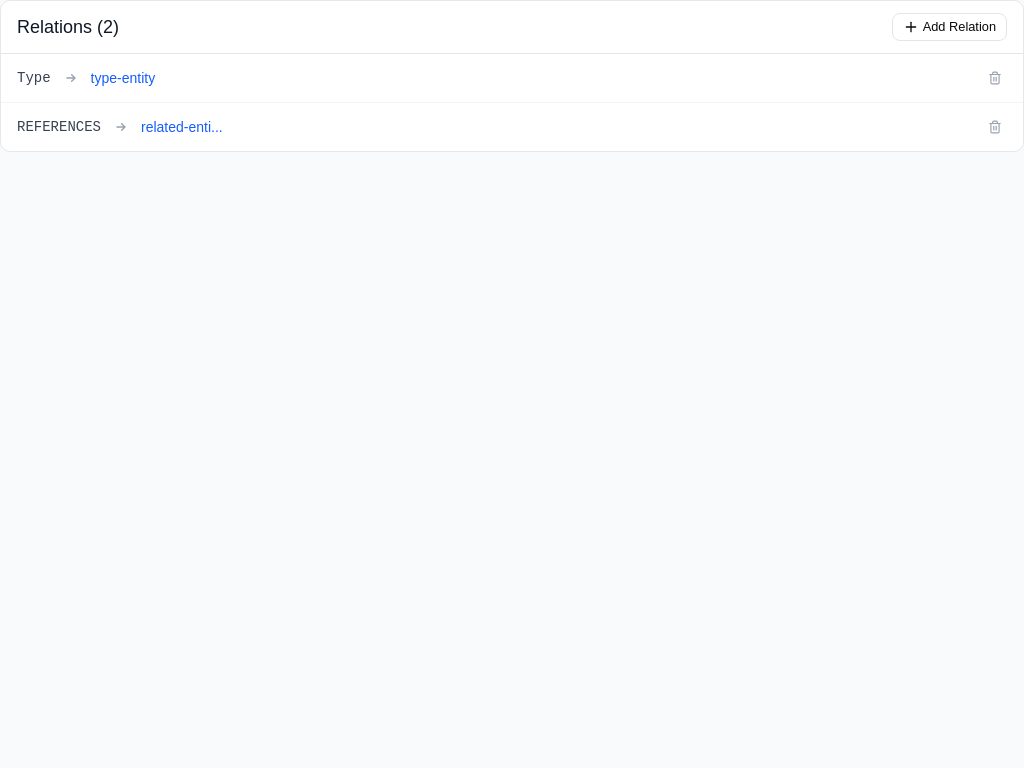
RelationsPanel › Remove Relation › opens confirmation dialog when remove button is clicked
Click the button with test id "remove-relation-button-0".
click(995, 78)  # box [983,66,1007,90]
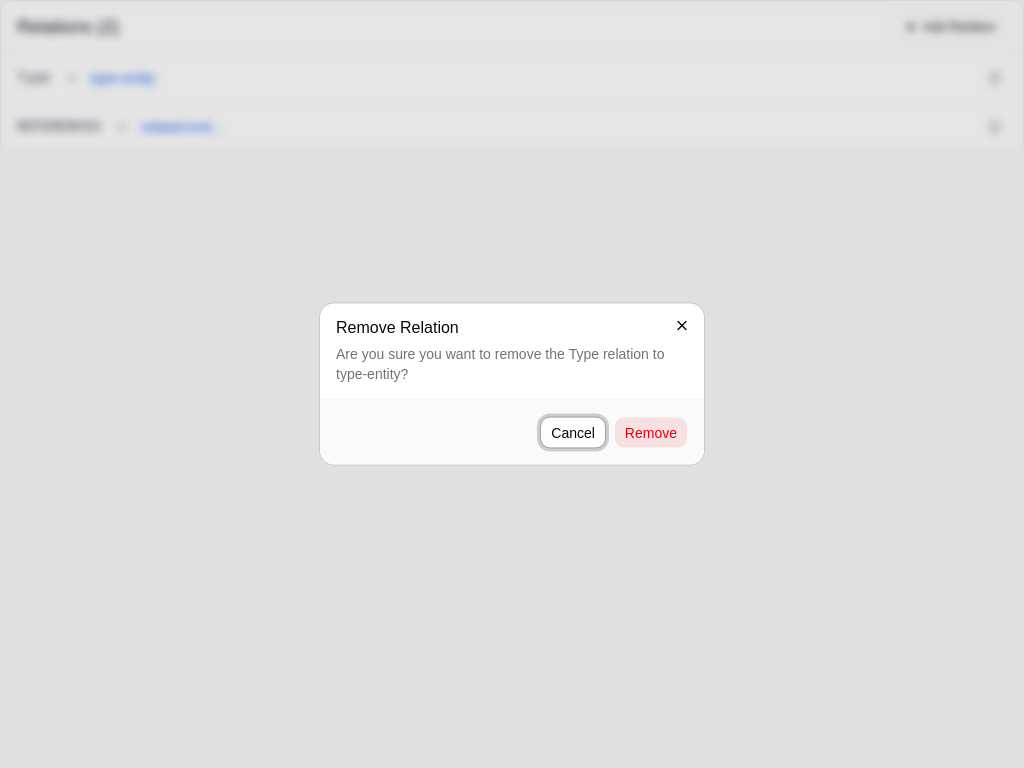
Now the dialog is shown, box [320,304,704,464]
Now the heading "Remove Relation" is shown, box [336,318,459,336]
Now the button "Cancel" is shown, box [540,416,606,448]
